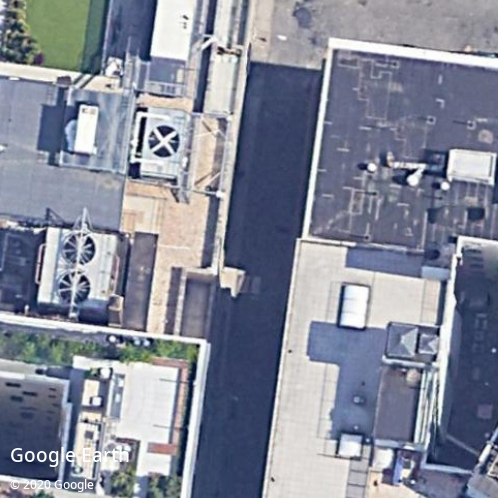Vent: (58, 270, 90, 303), (148, 125, 180, 157), (64, 233, 95, 265)
